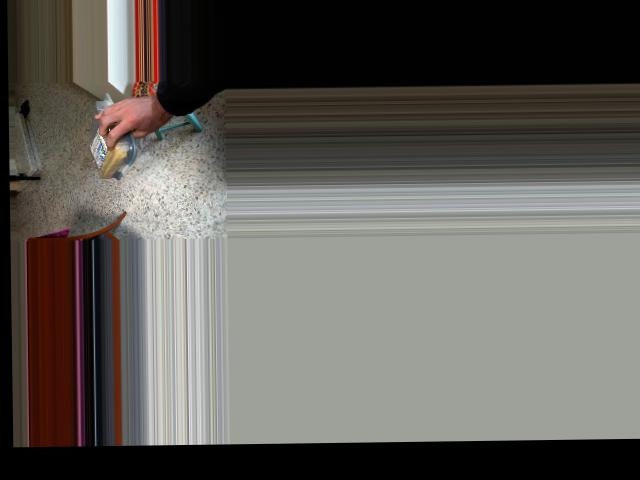cheese: (88, 117, 131, 182)
